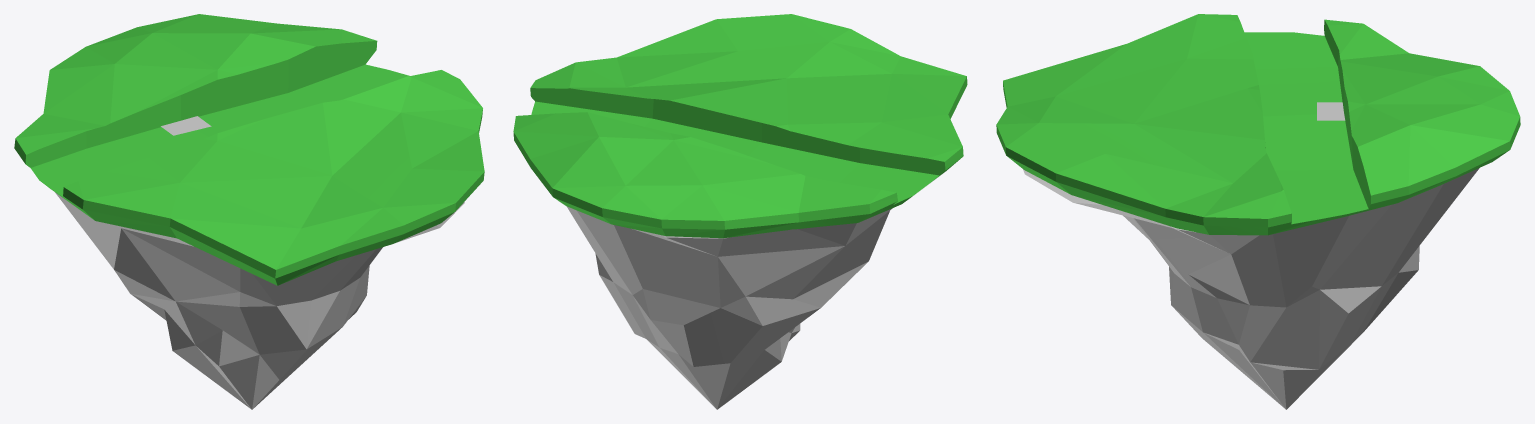
The model's file is world-forest-organic-land-obj.obj.
The picture shows the model from 3 angles, left to right: view 1: azimuth 30°, elevation 25°; view 2: azimuth 150°, elevation 25°; view 3: azimuth 270°, elevation 25°; orthographic projection. The views are drawn at different scales.
Parts seen in each view (by area): view 1: Island_Grass.013; view 2: Island_Grass.013; view 3: Island_Grass.013.
Part boxes in pixels (box(x1,y1,x2,y2)): Island_Grass.013: box(14, 14, 484, 409); Island_Grass.013: box(513, 14, 967, 409); Island_Grass.013: box(996, 14, 1520, 409).
Size of the model in its own units: 21.55 by 15.77 by 23.82.
